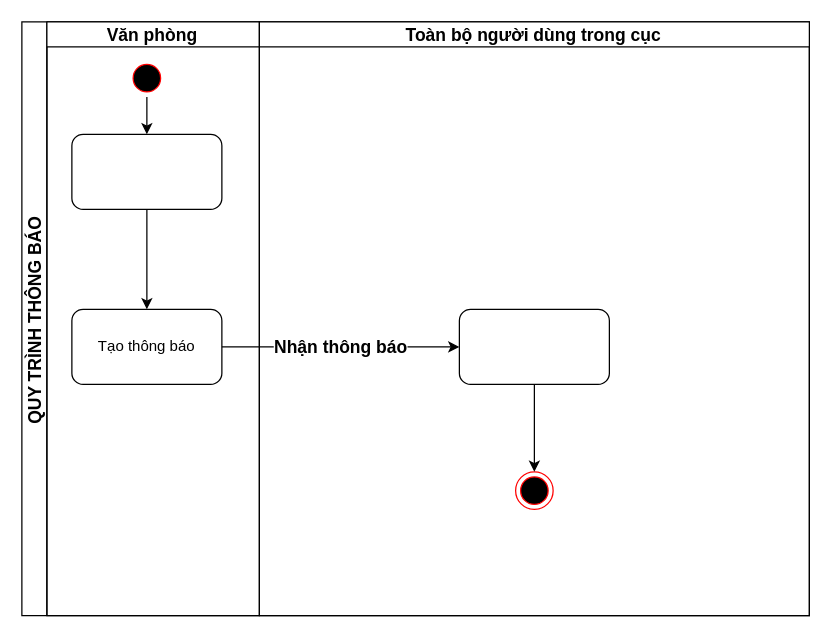
Image size: 831x638. Some labels were removed from this diagram. Here are the shapes that lost their labels. From the top down, the centre of each, then its label:
the point at 146,171: Đăng nhập hệ thống
the point at 533,346: Khai thác thông báo
